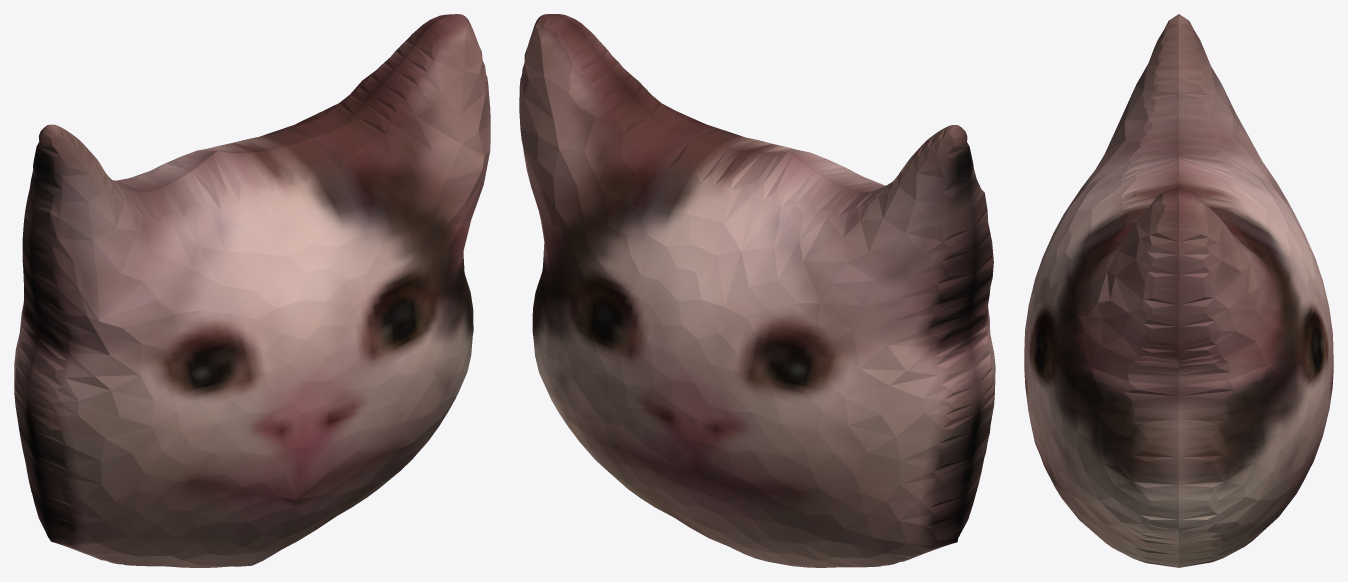
Rendered from cat_face.glb.
The picture shows the model from 3 angles, left to right: view 1: azimuth 30°, elevation 25°; view 2: azimuth 150°, elevation 25°; view 3: azimuth 270°, elevation 25°; orthographic projection. The views are drawn at different scales.
Parts seen in each view (by area): view 1: mesh_0; view 2: mesh_0; view 3: mesh_0.
Boxes of the visible parts, box(x1,y1,x2,y2) form: mesh_0: box(14, 14, 490, 567); mesh_0: box(519, 14, 995, 567); mesh_0: box(1024, 14, 1333, 567).
Size of the model in its own units: 2.36 by 2.41 by 1.46.
Materials: 1 (1 with a texture image).
